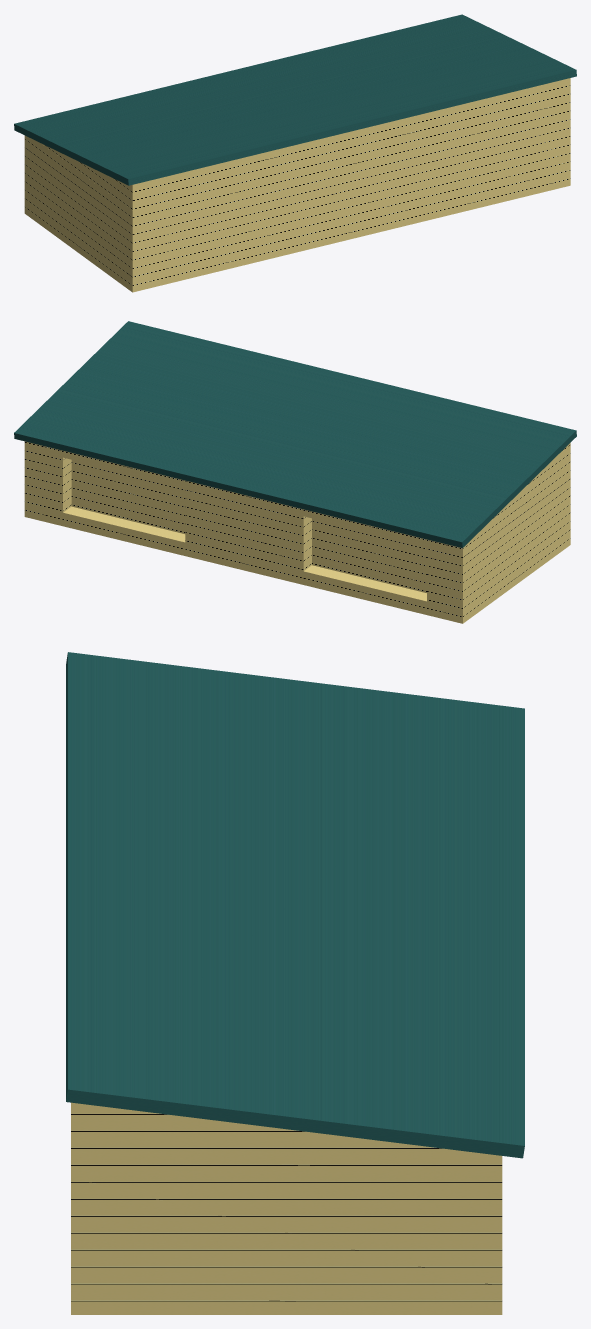
Rendered from casitaarribagrande.obj.
3 renders of one model, top to bottom at view 1: azimuth 30°, elevation 25°; view 2: azimuth 150°, elevation 25°; view 3: azimuth 270°, elevation 25°, orthographic. The views are drawn at different scales.
Parts seen in each view (by area): view 1: pCube31; view 2: pCube31; view 3: pCube31.
Boxes of the visible parts, bbox=[...] form: pCube31: bbox=[14, 14, 576, 292]; pCube31: bbox=[14, 321, 576, 623]; pCube31: bbox=[66, 652, 524, 1314].
Size of the model in its own units: 8.2 by 2.01 by 3.64.
Materials: 1 (1 with a texture image).
